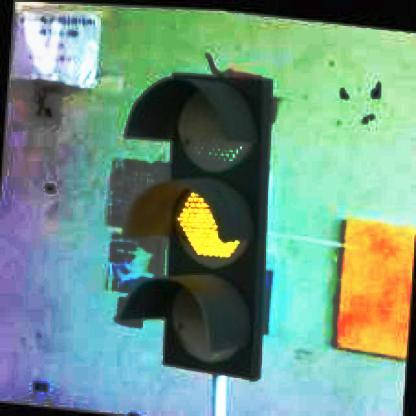Traffic Light -Yellow-: (109, 68, 280, 380)
